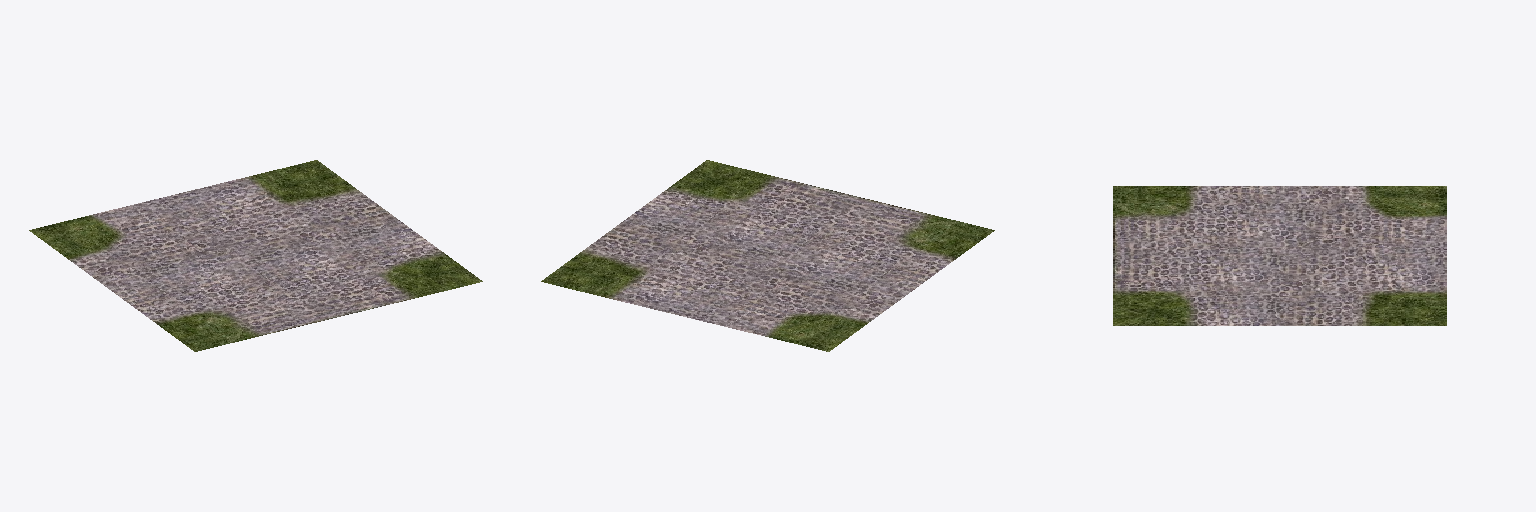
The picture shows the model from 3 angles: view 1: azimuth 30°, elevation 25°; view 2: azimuth 150°, elevation 25°; view 3: azimuth 270°, elevation 25°; orthographic projection.
Parts seen in each view (by area): view 1: mudgrass; view 2: mudgrass; view 3: mudgrass.
Boxes of the visible parts, <box> form: mudgrass: <box>29,160,482,351</box>; mudgrass: <box>541,160,994,351</box>; mudgrass: <box>1113,186,1446,325</box>.
Bounding box in the file's own units: 76 × 0 × 76.
1 materials, 1 textured.